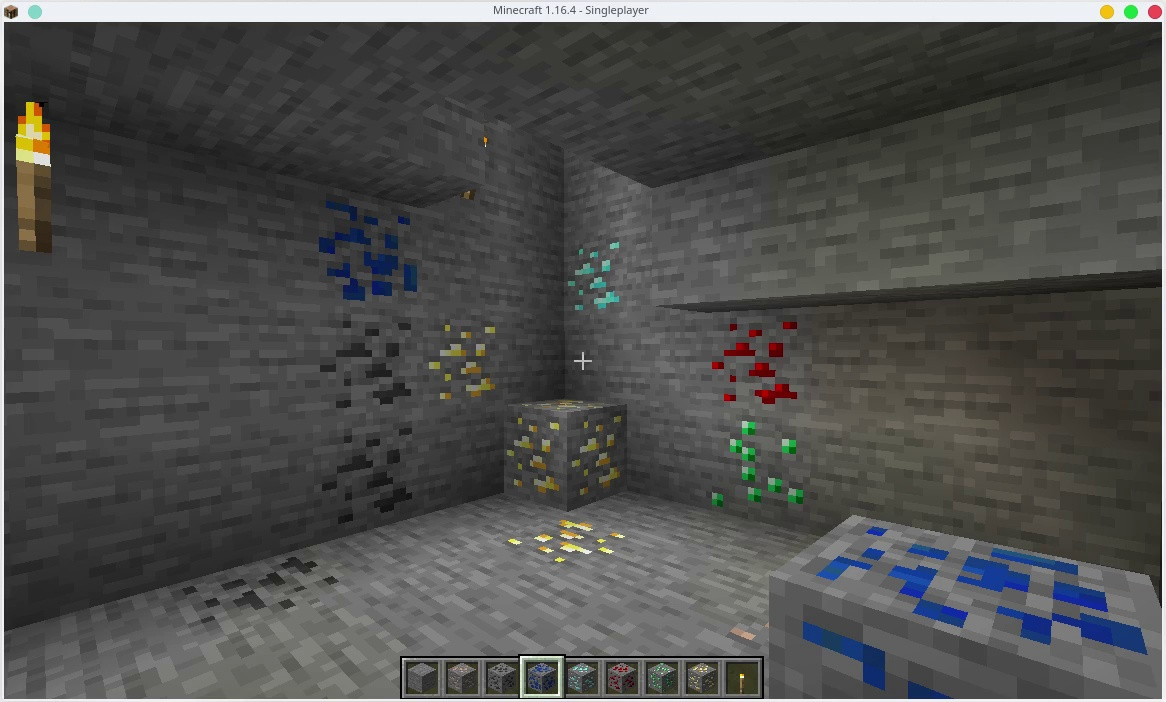gold: (507, 404, 628, 508), (418, 312, 501, 408), (515, 516, 621, 567), (685, 661, 716, 699)
